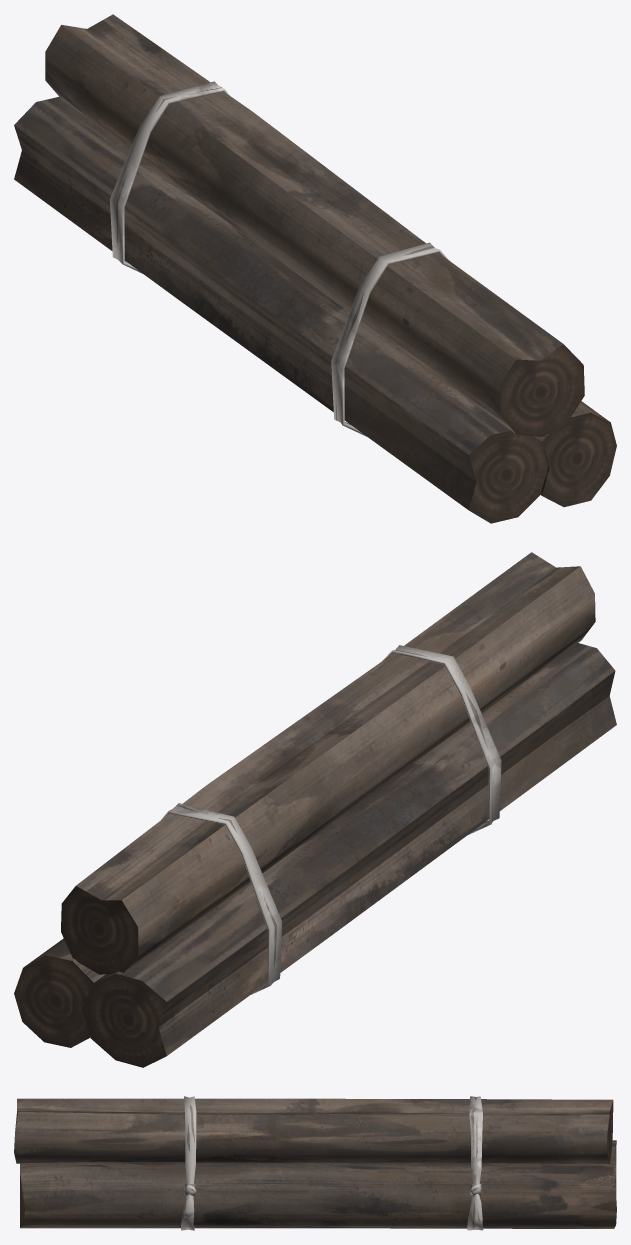
File: bundleOfLogs.fbx
The picture shows the model from 3 angles, top to bottom: view 1: azimuth 30°, elevation 25°; view 2: azimuth 150°, elevation 25°; view 3: azimuth 270°, elevation 25°; orthographic projection. The views are drawn at different scales.
Parts seen in each view (by area): view 1: bundleOfLogs; view 2: bundleOfLogs; view 3: bundleOfLogs.
Part boxes in pixels (<box>): bundleOfLogs: <box>14,14,616,523</box>; bundleOfLogs: <box>14,552,616,1067</box>; bundleOfLogs: <box>14,1096,616,1230</box>.
Bounding box in the file's own units: 46.08 × 45.12 × 224.
